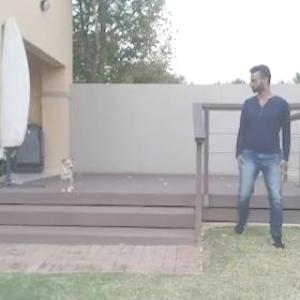follow: (232, 58, 286, 257)
